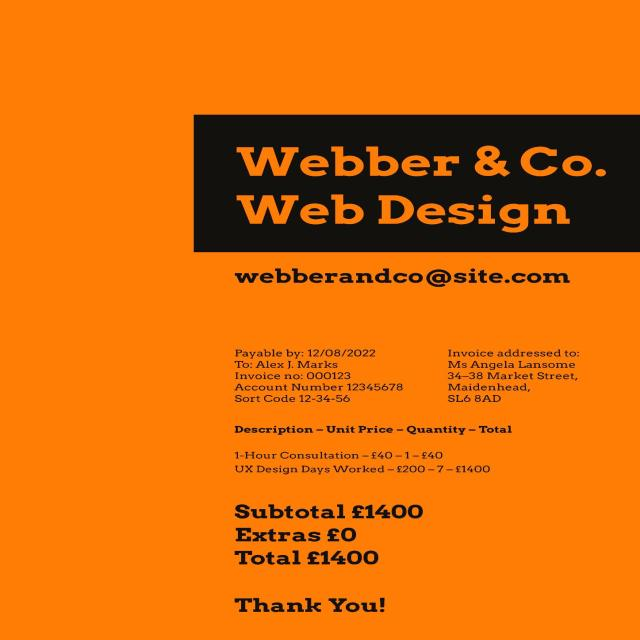paragraph: (195, 114, 640, 247), (230, 502, 432, 570), (234, 344, 411, 414), (234, 266, 575, 292), (445, 346, 588, 406), (231, 598, 388, 620)
table: (230, 423, 522, 481)
